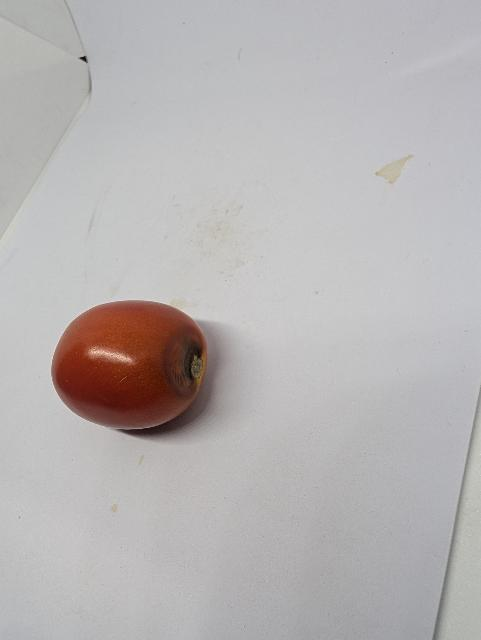defect: (49, 299, 213, 433)
